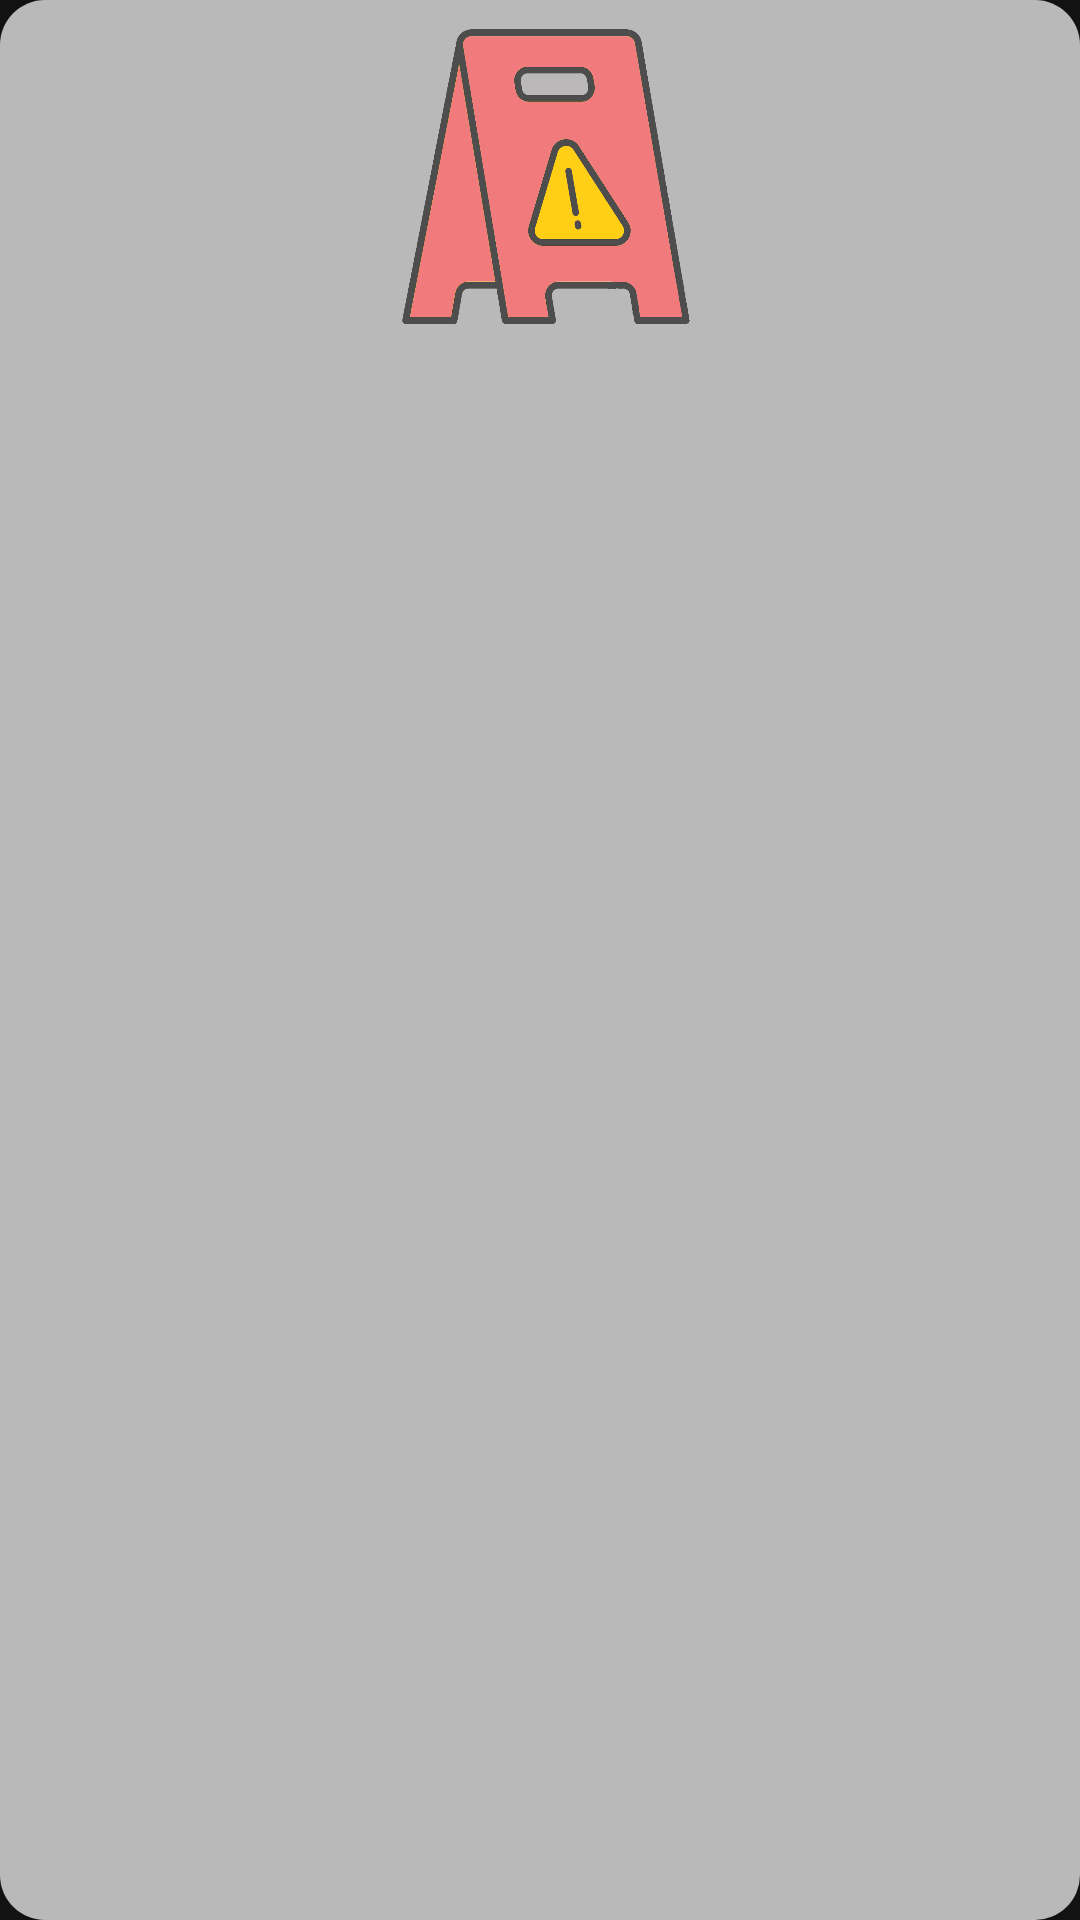

Screen size 1080x1920. Icon name, then its box in pixels as (x1, y1, x2, y2):
cution: (402, 29, 690, 324)
